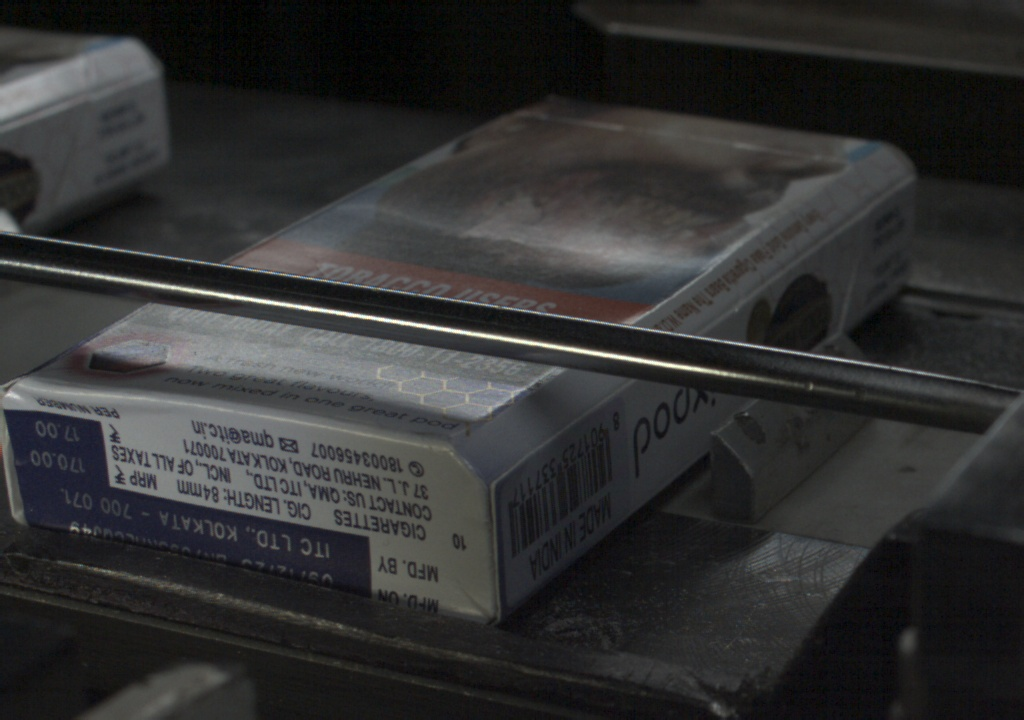g_label: (17, 485, 372, 597)
g_lmiter: (695, 266, 785, 329), (547, 384, 633, 444), (788, 209, 865, 264), (492, 437, 554, 489)
g_miter: (866, 170, 916, 207)
ng_bottom: (1, 378, 492, 623)
price: (12, 417, 107, 484)
